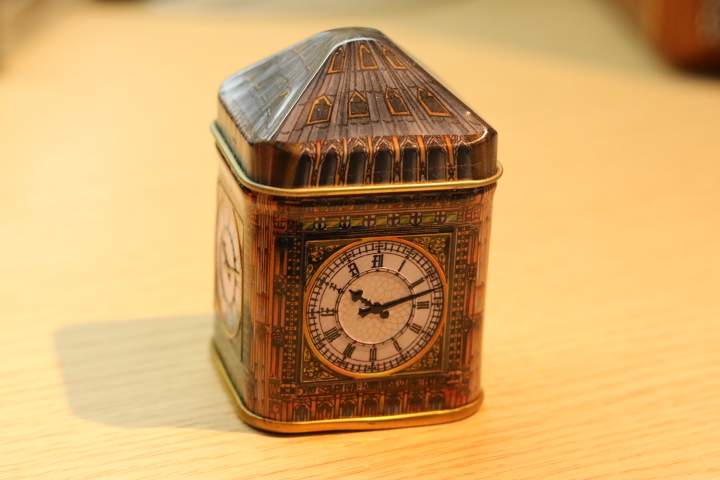Big Ben: (190, 18, 506, 446)
